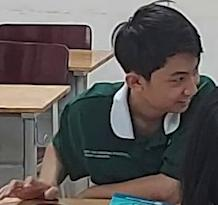Turning_Around: (9, 5, 208, 177)
